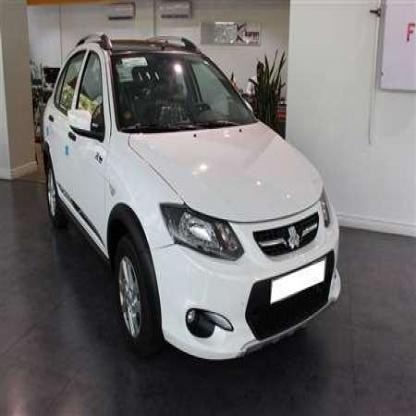Car: (43, 29, 342, 358)
